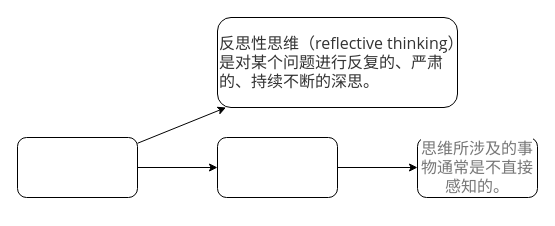
Image size: 555x226. Some labels were removed from this diagram. Each missing label, with the centre of its shape:
"思维的含义" belongs at (277,167).
"第一章 什么是思维？" belongs at (77,167).
